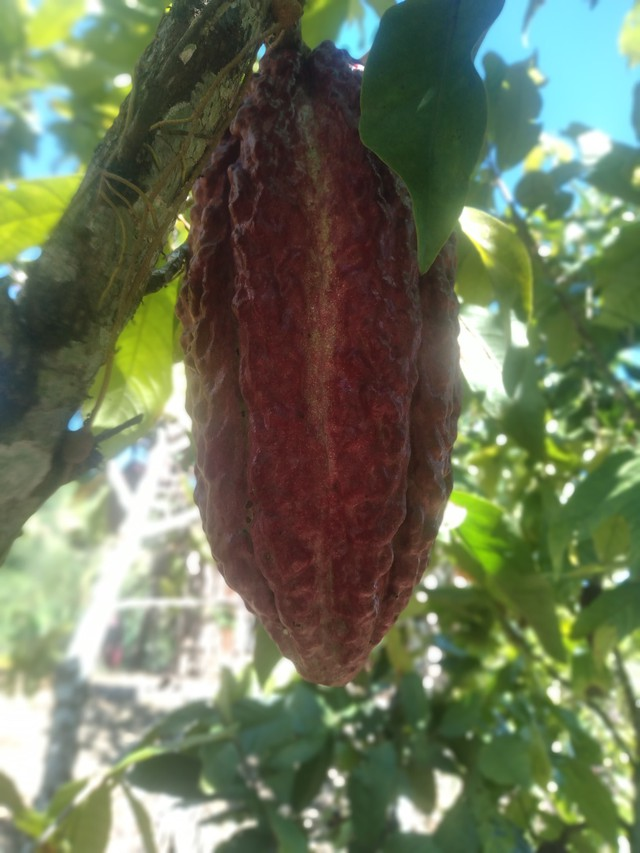Health: (162, 30, 480, 704)
